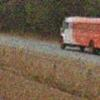buses: (60, 17, 100, 53)
